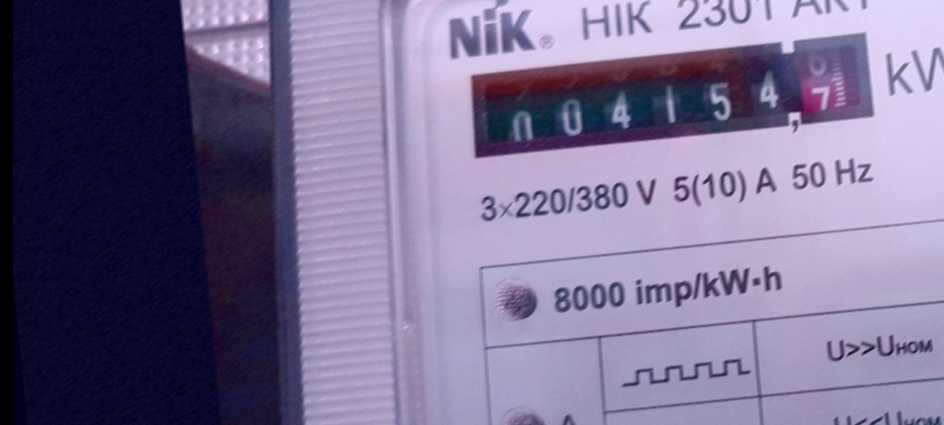0: (558, 95, 584, 139), (509, 106, 534, 142)
1: (661, 83, 678, 125)
4: (606, 89, 633, 132), (755, 66, 779, 111)
5: (706, 77, 734, 123)
6: (805, 47, 829, 78)
7: (808, 83, 832, 113)
screen: (450, 17, 892, 173)
